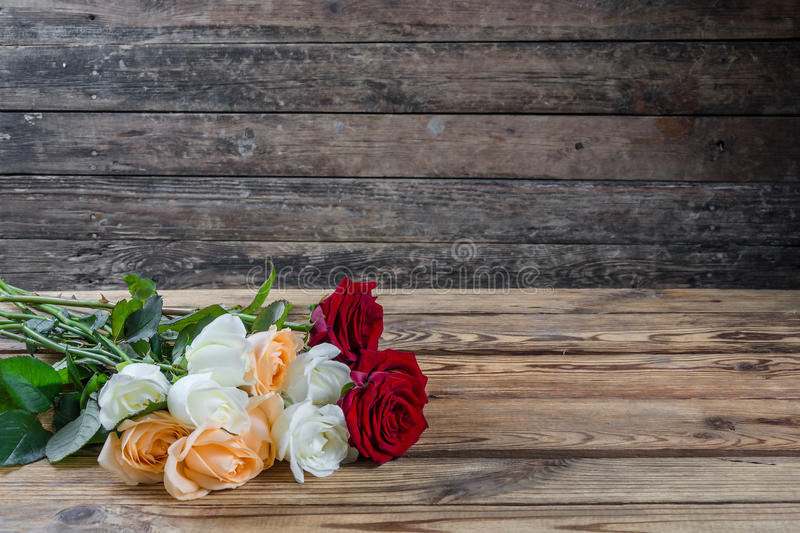RedRose: (338, 342, 434, 466), (309, 270, 385, 359)
